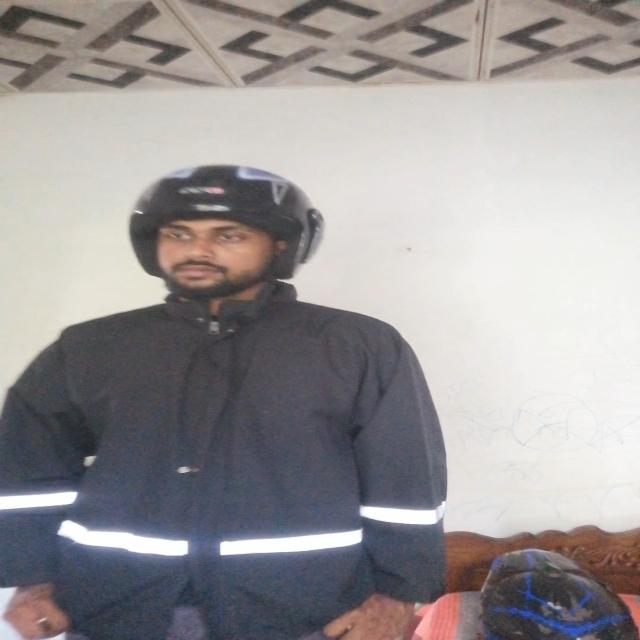Helmet_Wearer: (94, 154, 310, 313)
Jacket_Wearer: (0, 294, 416, 609)
Person: (8, 160, 442, 640)
